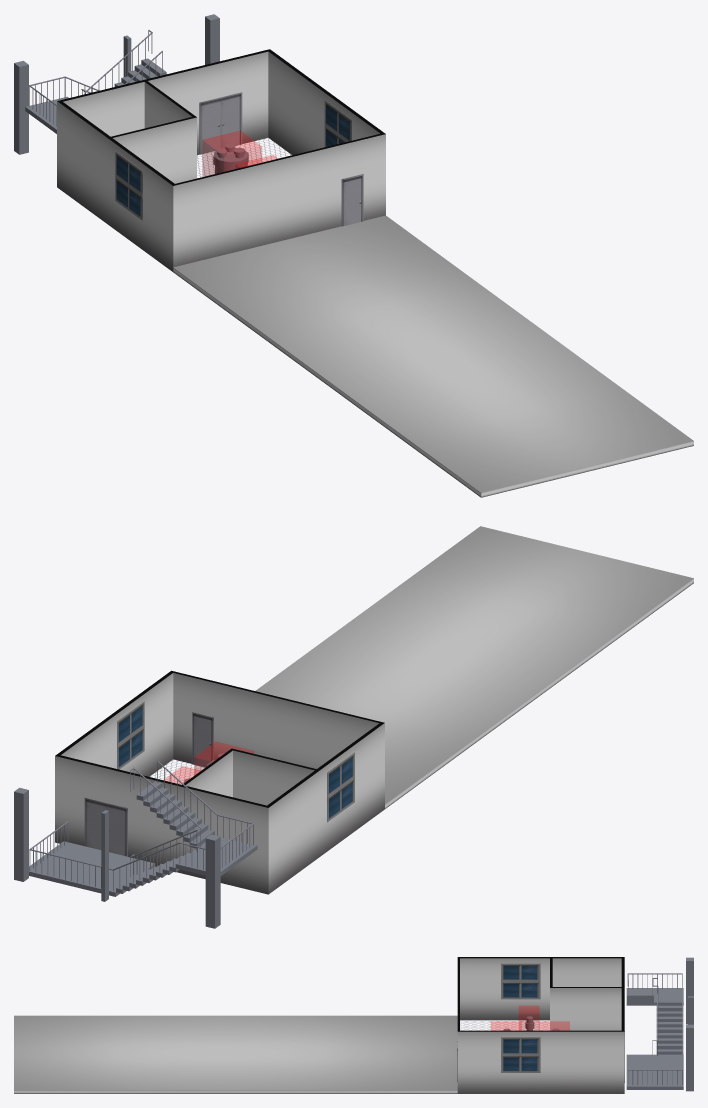
The model's file is soulbrain_T5-1-4F-3.glb.
3 renders of one model, top to bottom at view 1: azimuth 30°, elevation 25°; view 2: azimuth 150°, elevation 25°; view 3: azimuth 270°, elevation 25°, orthographic. The views are drawn at different scales.
Visible parts, largest first — view 1: T5-1-5F, Box1698, equipment-T5-1-4F-3-003, T5-1-4F-3; view 2: T5-1-5F, Box1698, equipment-T5-1-4F-3-002; view 3: T5-1-5F, equipment-T5-1-4F-3-001, Box1696, equipment-T5-1-4F-3-002, equipment-T5-1-4F-3-003.
Part boxes in pixels (x1,y1,x2,y2): T5-1-5F: (14,14,693,497); Box1698: (199,92,363,226); equipment-T5-1-4F-3-003: (202,131,261,176); T5-1-4F-3: (213,144,248,173); T5-1-5F: (14,526,693,928); Box1698: (84,712,213,856); equipment-T5-1-4F-3-002: (194,742,253,774); T5-1-5F: (14,957,693,1093); equipment-T5-1-4F-3-001: (519,1006,539,1030); Box1696: (460,1020,549,1030); equipment-T5-1-4F-3-002: (491,1021,521,1030); equipment-T5-1-4F-3-003: (539,1021,569,1030).
Bounding box in the file's own units: 9 × 4.55 × 34.5.
10 materials, 8 textured.
